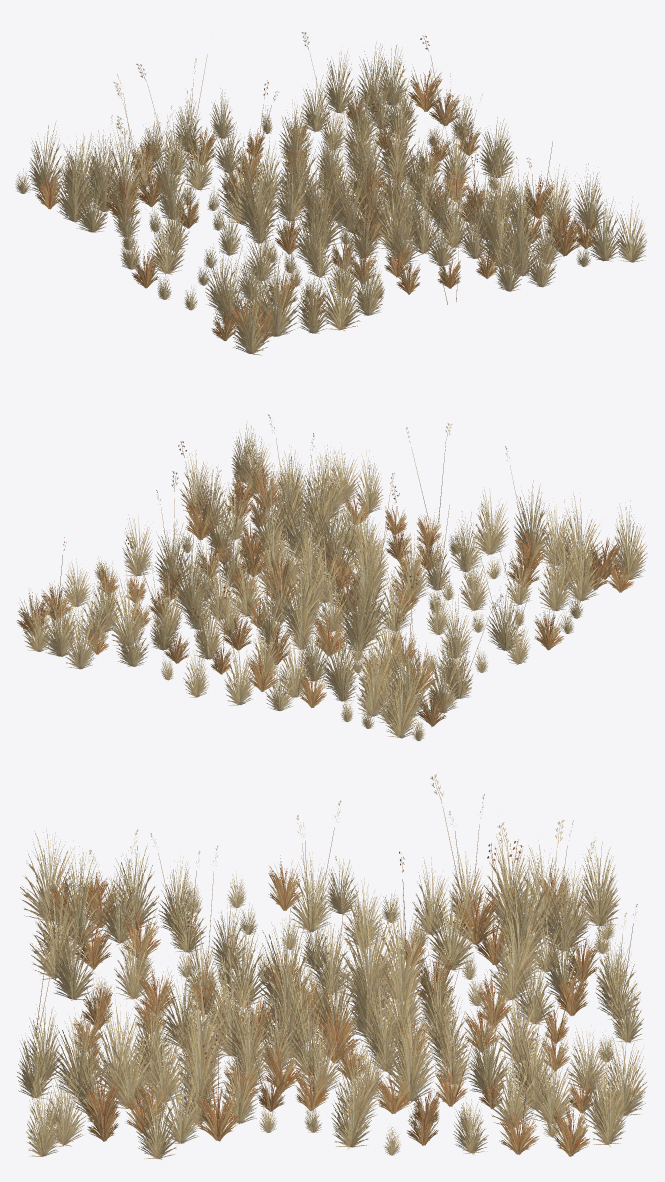
The model's file is DryGrass.glb.
The picture shows the model from 3 angles, top to bottom: view 1: azimuth 30°, elevation 25°; view 2: azimuth 150°, elevation 25°; view 3: azimuth 270°, elevation 25°; orthographic projection. The views are drawn at different scales.
Visible parts, largest first — view 1: grass_patch_lod2; view 2: grass_patch_lod2; view 3: grass_patch_lod2.
Part boxes in pixels (bbox=[...]): grass_patch_lod2: bbox=[15, 32, 647, 355]; grass_patch_lod2: bbox=[17, 414, 647, 740]; grass_patch_lod2: bbox=[17, 774, 647, 1159].
Size of the model in its own units: 4.26 by 1.12 by 4.3.
1 material, 1 textured.
